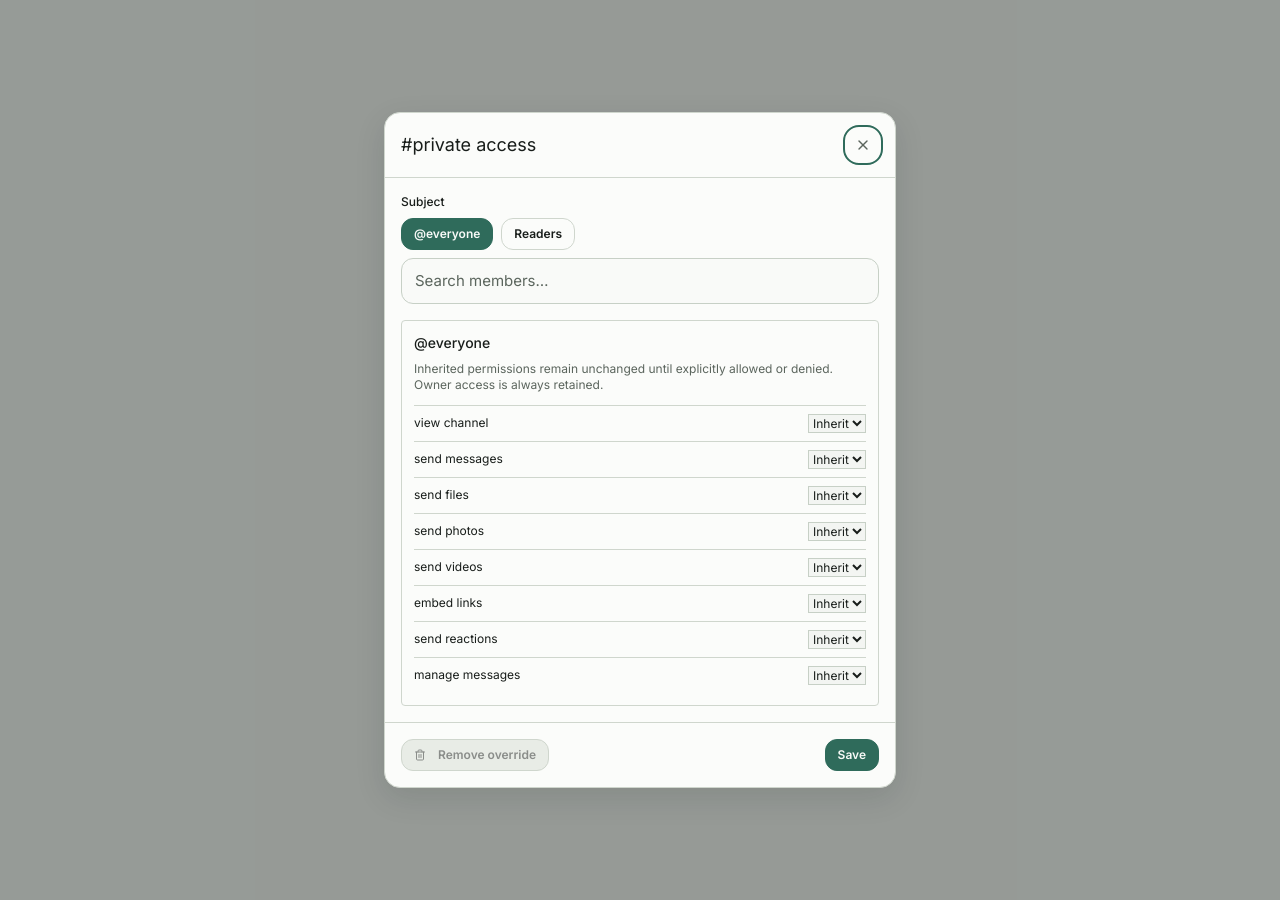
Test case: ChannelAccessEditor › loads subjects and distinguishes inherited/default from explicit states
Click the button "Readers": (538, 234) [501,218,575,250]
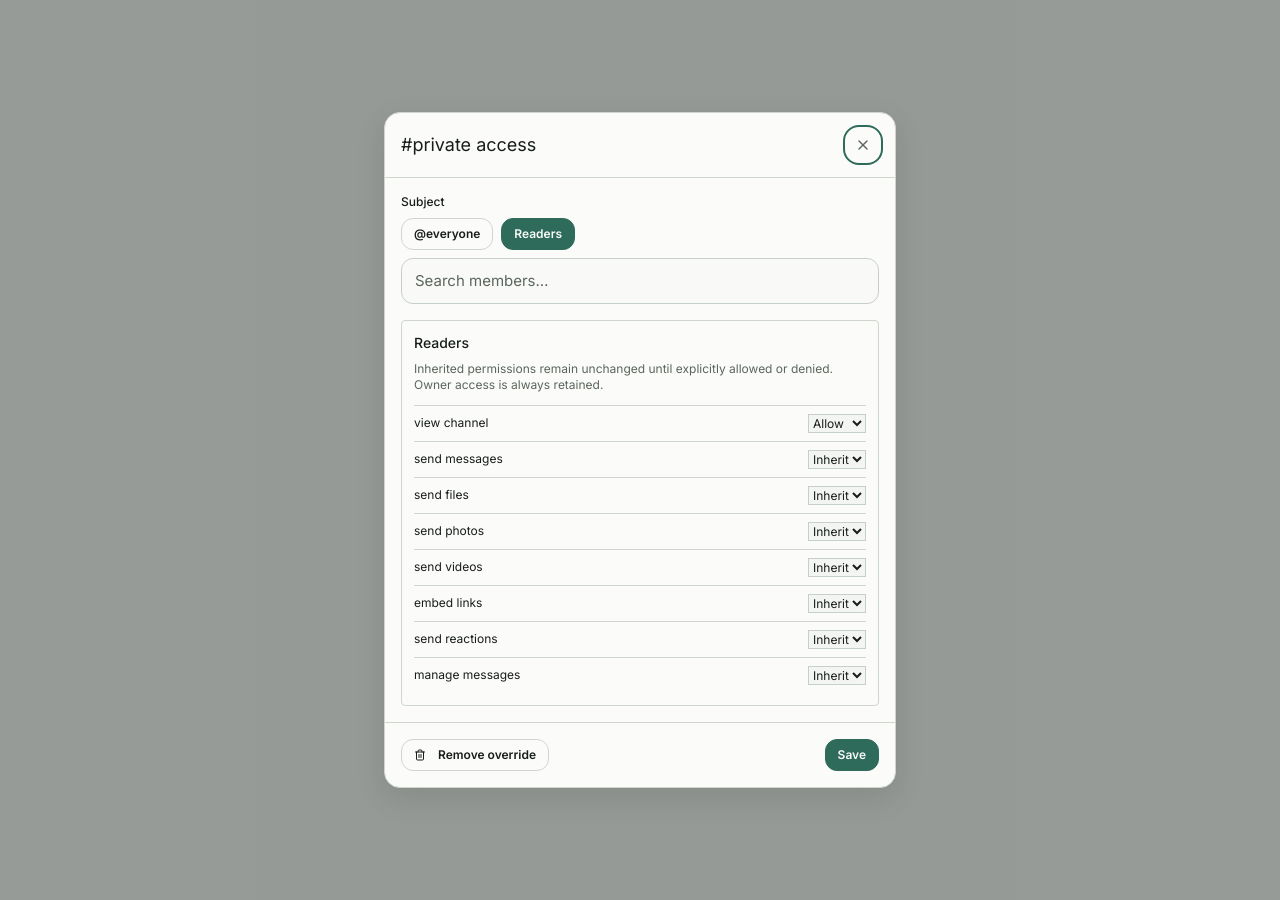
Expected: the dropdown named "send_messages access" shows "Inherit", [808,450,866,469]
Now the dropdown named "view_channel access" shows "Allow", box [808,414,866,433]
